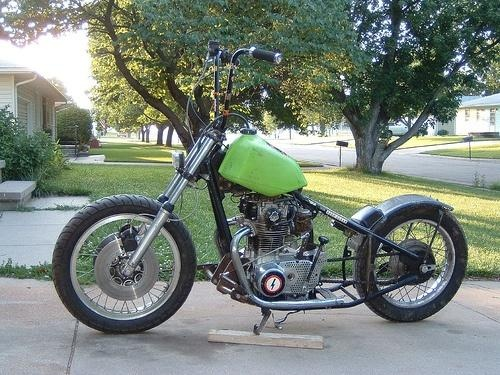motorbike: (54, 39, 472, 342)
